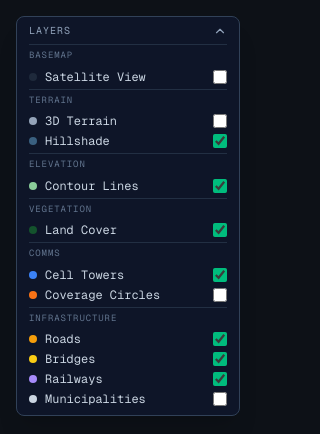
LayerPanel › collapses layer rows when header button is clicked
Expected: the checkbox labelled "3D Terrain" is shown, x1=213 y1=114 x2=227 y2=128
Click the button with aria-label "toggle layer panel" at {"x": 128, "y": 30}, box x1=17 y1=17 x2=239 y2=44
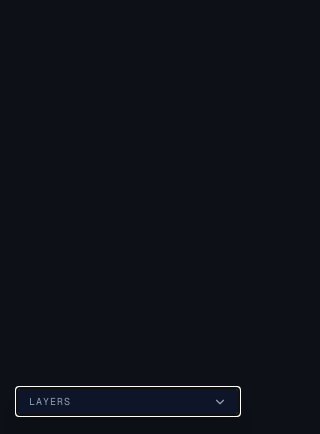
Now the text labelled "3D Terrain" is gone
